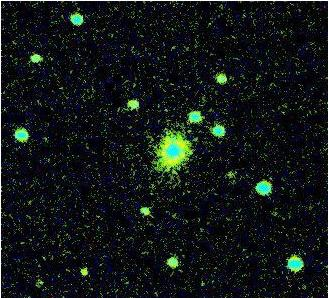star: (69, 255, 99, 285)
